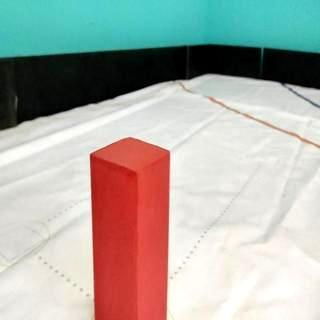redbox: (88, 133, 172, 320)
